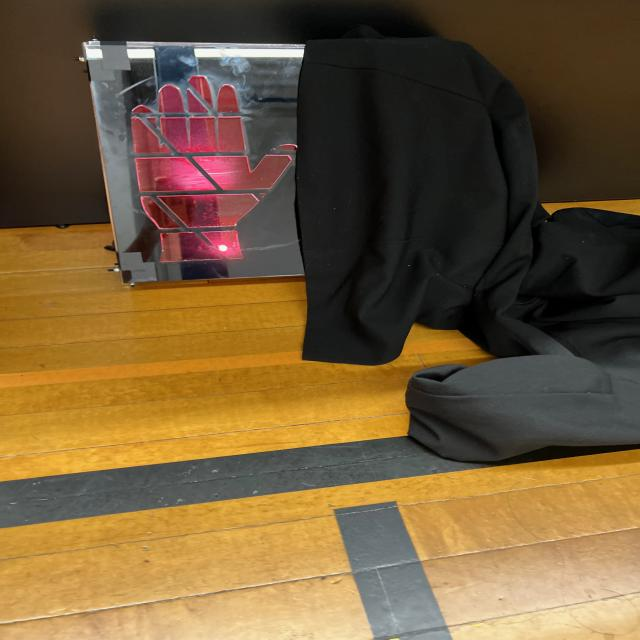stop: (106, 48, 304, 274)
